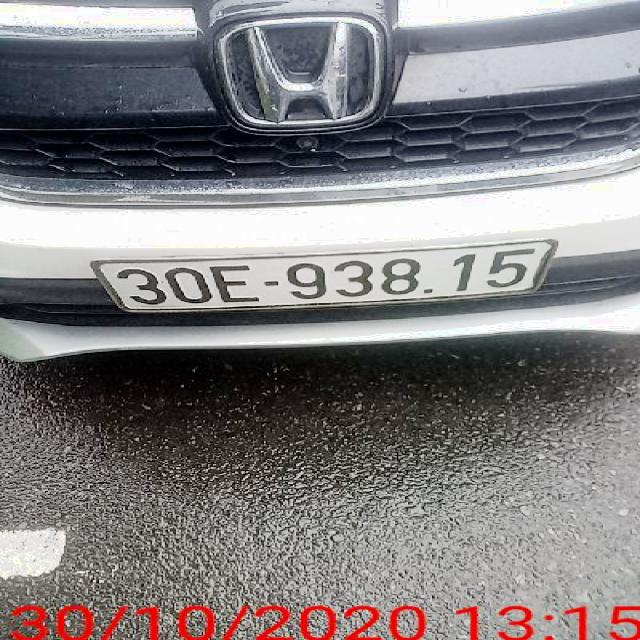license_plate: (97, 242, 556, 314)
